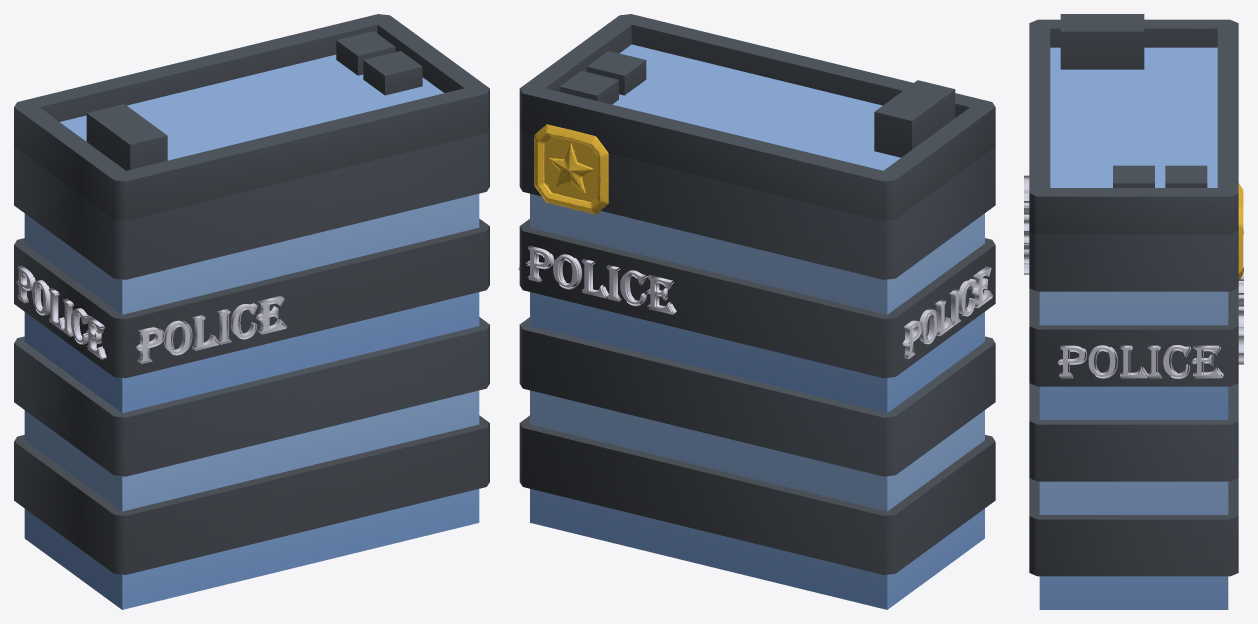
The model's file is police.glb.
3 views of the same model, side by side, from view 1: azimuth 30°, elevation 25°; view 2: azimuth 150°, elevation 25°; view 3: azimuth 270°, elevation 25° (orthographic). The views are drawn at different scales.
Parts seen in each view (by area): view 1: low-detail-building-wide-b.001, 文本.006, 文本.005; view 2: low-detail-building-wide-b.001, Mesh_0.002, 文本.007, 文本.005; view 3: low-detail-building-wide-b.001, 文本.004, 文本.006, Mesh_0.002, 文本.007.
Boxes of the visible parts, x1,y1,x2,y2 form: low-detail-building-wide-b.001: [14, 14, 489, 609]; 文本.006: [136, 296, 287, 363]; 文本.005: [16, 265, 106, 359]; low-detail-building-wide-b.001: [519, 14, 995, 609]; Mesh_0.002: [534, 124, 608, 214]; 文本.007: [525, 246, 676, 314]; 文本.005: [902, 266, 992, 358]; low-detail-building-wide-b.001: [1029, 14, 1238, 609]; 文本.004: [1057, 345, 1223, 378]; 文本.006: [1024, 175, 1029, 274]; Mesh_0.002: [1238, 183, 1243, 281]; 文本.007: [1238, 267, 1243, 364].
Bounding box in the file's own units: 1.02 × 1.15 × 0.5249.
Materials: 3 (1 with a texture image).
